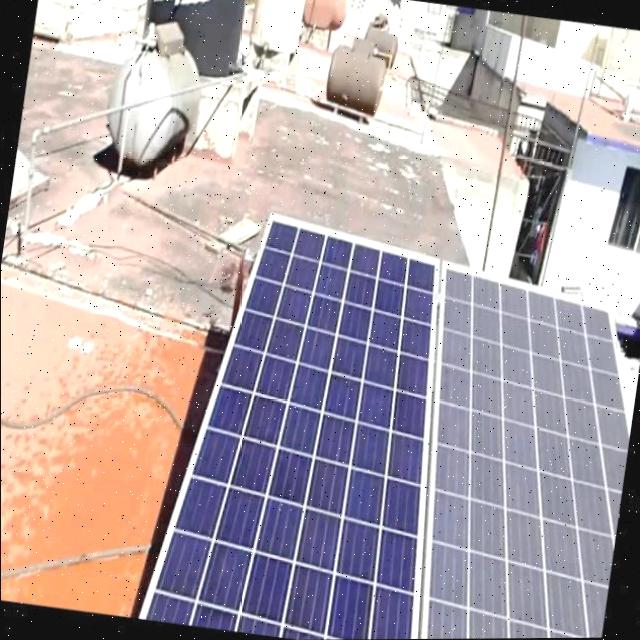Normal Solar Panel: (147, 213, 464, 640)
